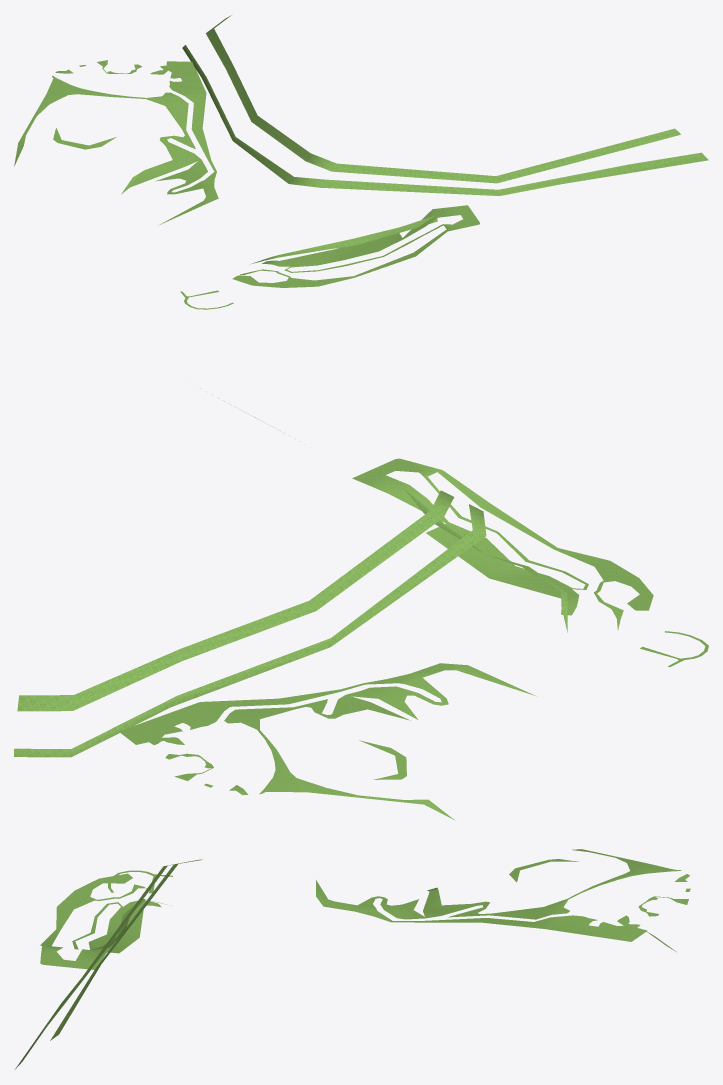
Rendered from kd_stage_1363c5_6_5.glb.
3 renders of one model, top to bottom at view 1: azimuth 30°, elevation 25°; view 2: azimuth 150°, elevation 25°; view 3: azimuth 270°, elevation 25°, orthographic. The views are drawn at different scales.
Visible parts, largest first — view 1: kd_stage_1363c5_6_5; view 2: kd_stage_1363c5_6_5; view 3: kd_stage_1363c5_6_5.
Boxes of the visible parts, left/top/right/bottom form: kd_stage_1363c5_6_5: left=14, top=15, right=708, bottom=309; kd_stage_1363c5_6_5: left=14, top=388, right=708, bottom=819; kd_stage_1363c5_6_5: left=15, top=849, right=690, bottom=1069.
Size of the model in its own units: 304 by 54.22 by 318.
1 material, 1 textured.
